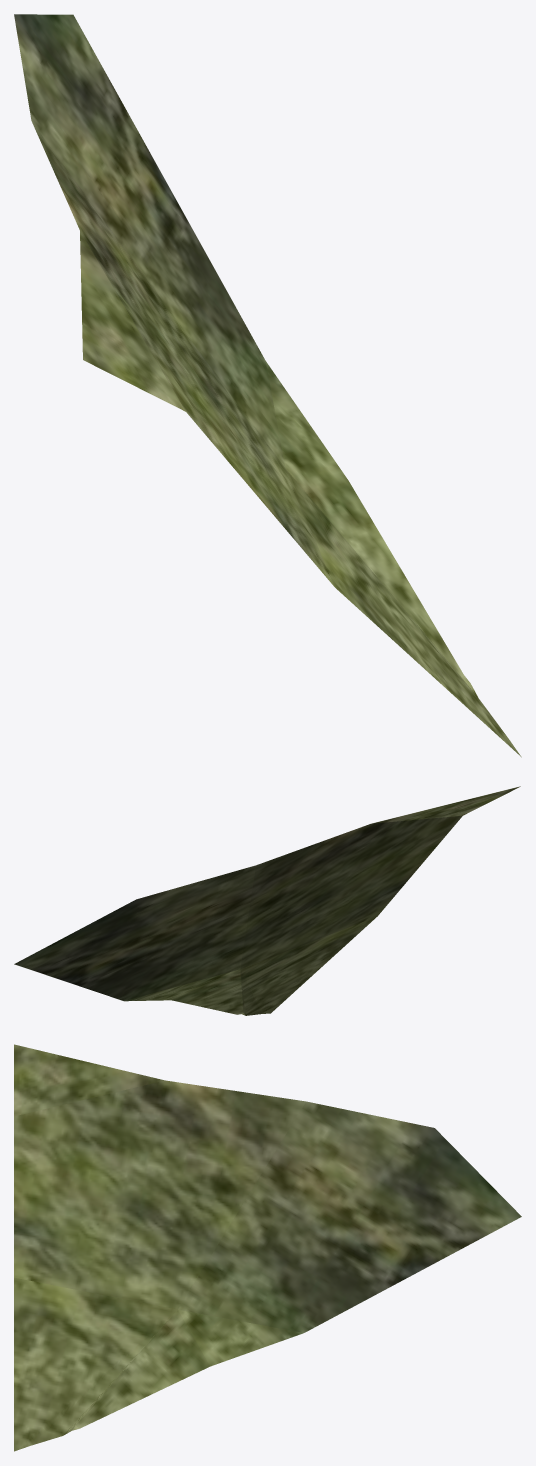
The picture shows the model from 3 angles, top to bottom: view 1: azimuth 30°, elevation 25°; view 2: azimuth 150°, elevation 25°; view 3: azimuth 270°, elevation 25°; orthographic projection. The views are drawn at different scales.
Size of the model in its own units: 2.72 by 2.98 by 4.8.
Materials: 1 (1 with a texture image).
